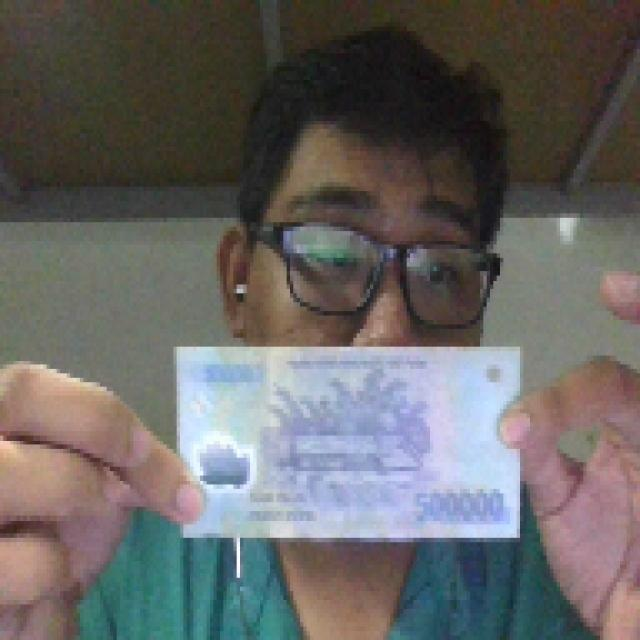500 000 VND: (170, 338, 527, 546)
